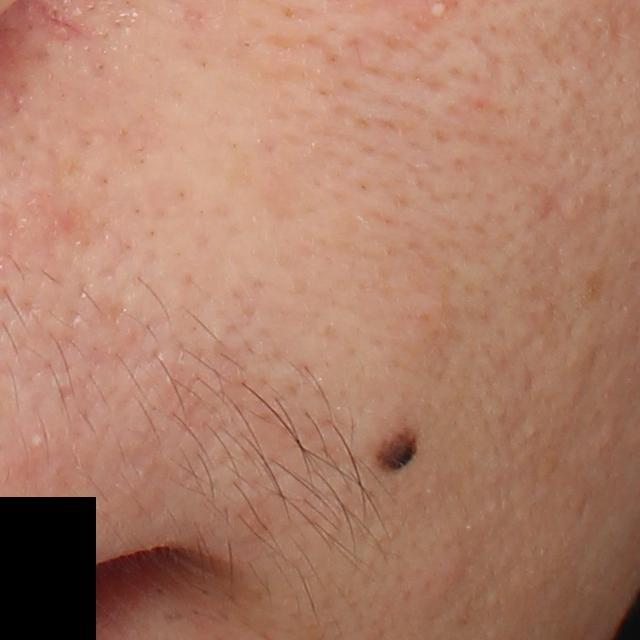comedo: (31, 435, 46, 452)
nevus: (379, 427, 423, 477)
